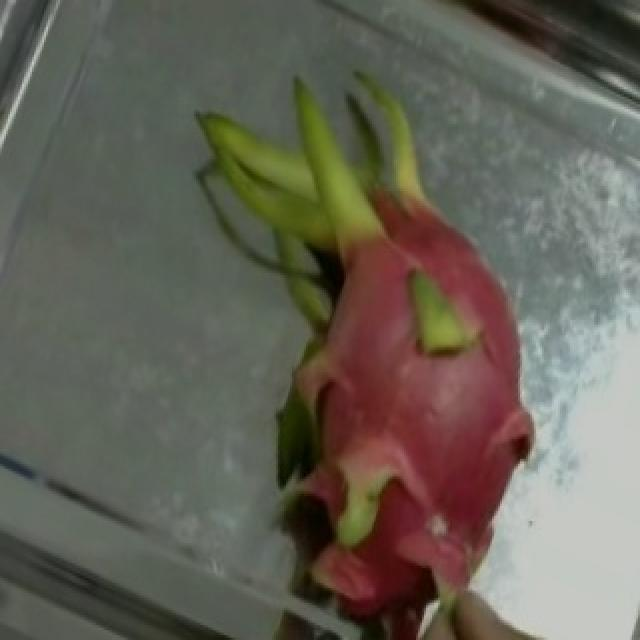fruit: (174, 213, 614, 638)
